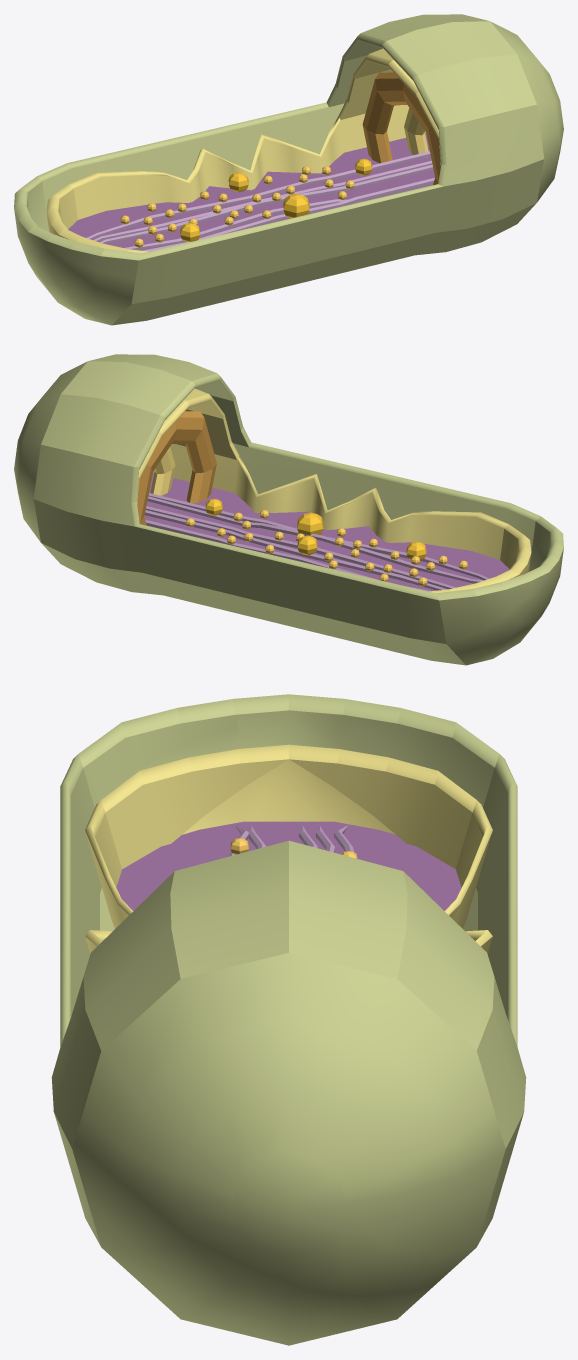
Rendered from Mitochondria V2 ( No caption ).fbx.
3 renders of one model, top to bottom at view 1: azimuth 30°, elevation 25°; view 2: azimuth 150°, elevation 25°; view 3: azimuth 270°, elevation 25°, orthographic. The views are drawn at different scales.
Parts seen in each view (by area): view 1: Cell_Big, polySurface1, polySurface2, Cell_Small_1, pCylinder100, pCylinder103, pCylinder99, pCylinder101, pCylinder102, Cell_Small_2, pSphere53; view 2: Cell_Big, polySurface1, polySurface2, Cell_Small_1, pCylinder102, pCylinder101, pCylinder103, pCylinder99, pCylinder100, Cell_Small_2, pSphere53; view 3: Cell_Big, polySurface1, polySurface2.
Part boxes in pixels (x1=…): Cell_Big: x1=14, y1=14, x2=563, y2=325; polySurface1: x1=46, y1=48, x2=440, y2=253; polySurface2: x1=68, y1=133, x2=434, y2=250; Cell_Small_1: x1=362, y1=72, x2=440, y2=185; pCylinder100: x1=86, y1=151, x2=430, y2=239; pCylinder103: x1=99, y1=164, x2=433, y2=243; pCylinder99: x1=143, y1=178, x2=434, y2=251; pCylinder101: x1=93, y1=160, x2=432, y2=241; pCylinder102: x1=124, y1=184, x2=433, y2=250; Cell_Small_2: x1=404, y1=108, x2=428, y2=157; pSphere53: x1=283, y1=193, x2=309, y2=218; Cell_Big: x1=14, y1=354, x2=563, y2=665; polySurface1: x1=137, y1=388, x2=531, y2=593; polySurface2: x1=144, y1=473, x2=509, y2=591; Cell_Small_1: x1=137, y1=411, x2=216, y2=525; pCylinder102: x1=147, y1=496, x2=483, y2=583; pCylinder101: x1=144, y1=510, x2=446, y2=590; pCylinder103: x1=145, y1=506, x2=455, y2=589; pCylinder99: x1=148, y1=493, x2=489, y2=580; pCylinder100: x1=145, y1=520, x2=430, y2=591; Cell_Small_2: x1=150, y1=447, x2=175, y2=495; pSphere53: x1=297, y1=512, x2=323, y2=535; Cell_Big: x1=51, y1=694, x2=526, y2=1345; polySurface1: x1=85, y1=744, x2=492, y2=953; polySurface2: x1=116, y1=821, x2=461, y2=910.
Bounding box in the file's own units: 4.98 × 1.96 × 1.96.
